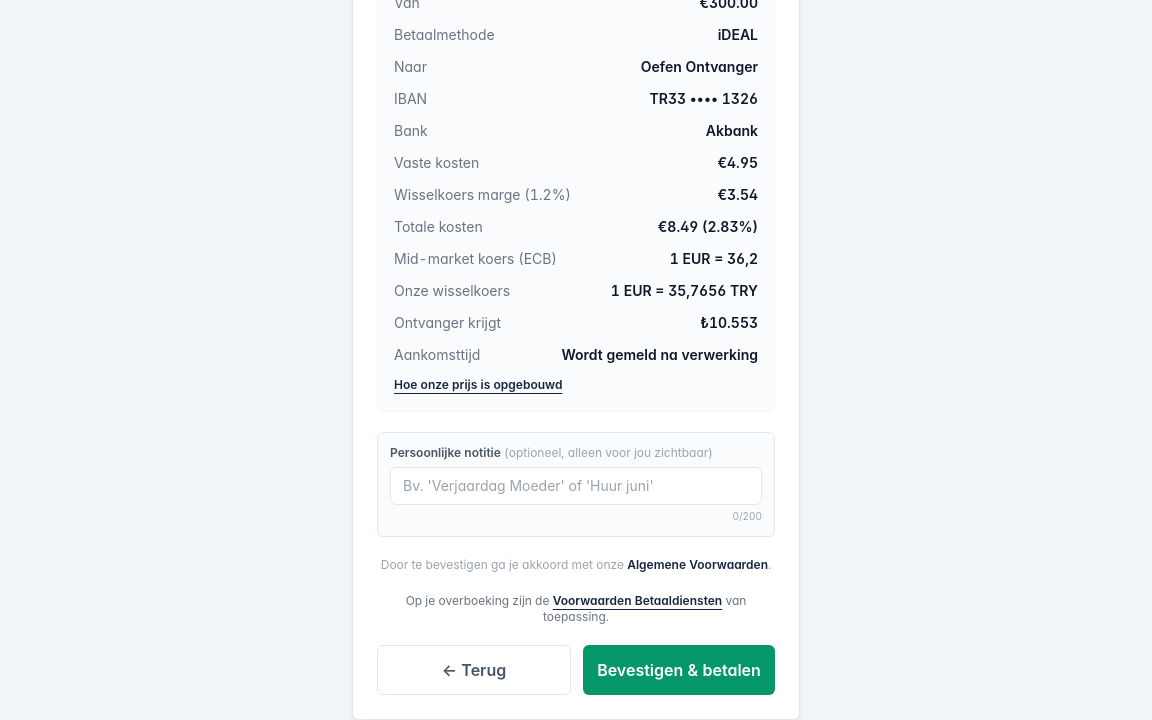
Scenario: PaymentFlow: snel opnieuw › pincode aan: eerst de pincode, ook bij een snelle tik vóór de pinstatus binnen is
This screenshot has width=1152, height=720.
(page scrolled)
Click the button "Bevestigen & betalen". click: point(679, 670)
box: 583,645 -> 775,695
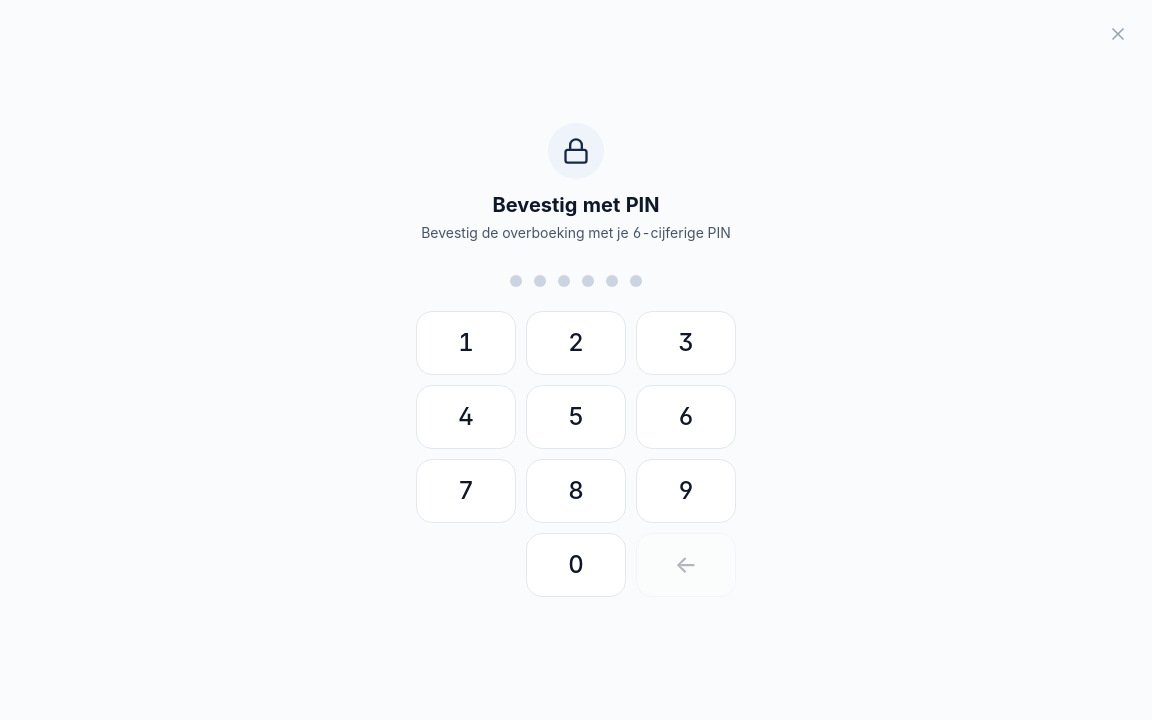
Expected: the dialog is shown
